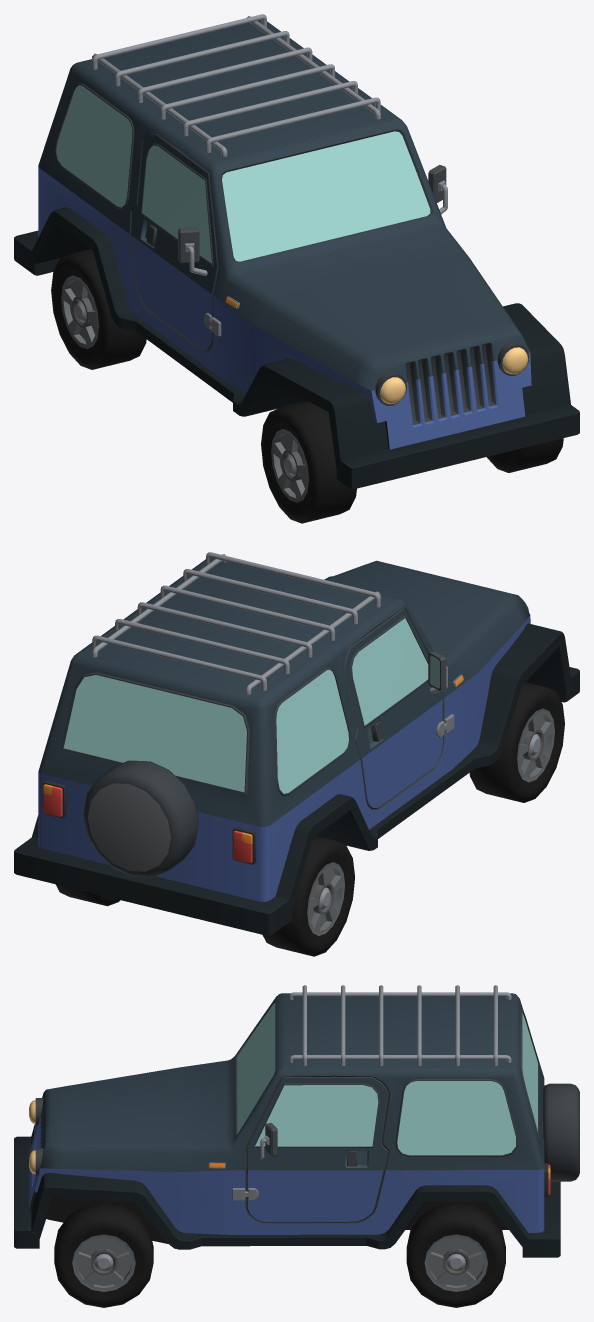
The model's file is SM_Vehicles_09_V1.fbx.
3 renders of one model, top to bottom at view 1: azimuth 30°, elevation 25°; view 2: azimuth 150°, elevation 25°; view 3: azimuth 270°, elevation 25°, orthographic. The views are drawn at different scales.
Parts seen in each view (by area): view 1: SM_Vehicles_09_V1, SM_Vehicles_09_FR, SM_Vehicles_09_RR, SM_Vehicles_09_FL; view 2: SM_Vehicles_09_V1, SM_Vehicles_09_FR, SM_Vehicles_09_RR, SM_Vehicles_09_RL; view 3: SM_Vehicles_09_V1, SM_Vehicles_09_RL, SM_Vehicles_09_FL.
Part boxes in pixels (bbox=[...]): SM_Vehicles_09_V1: bbox=[14, 14, 579, 489]; SM_Vehicles_09_FR: bbox=[261, 401, 356, 523]; SM_Vehicles_09_RR: bbox=[51, 249, 146, 369]; SM_Vehicles_09_FL: bbox=[486, 438, 563, 472]; SM_Vehicles_09_V1: bbox=[14, 552, 579, 935]; SM_Vehicles_09_FR: bbox=[469, 682, 564, 802]; SM_Vehicles_09_RR: bbox=[262, 836, 354, 956]; SM_Vehicles_09_RL: bbox=[56, 884, 120, 906]; SM_Vehicles_09_V1: bbox=[14, 985, 579, 1257]; SM_Vehicles_09_RL: bbox=[406, 1202, 505, 1307]; SM_Vehicles_09_FL: bbox=[54, 1202, 153, 1307].
Bounding box in the file's own units: 1.8 × 1.83 × 3.93.
